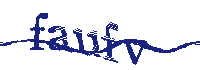a: (49, 25, 70, 53)
f: (100, 23, 122, 65), (29, 11, 49, 54)
u: (74, 28, 101, 58)
v: (124, 39, 148, 67)
